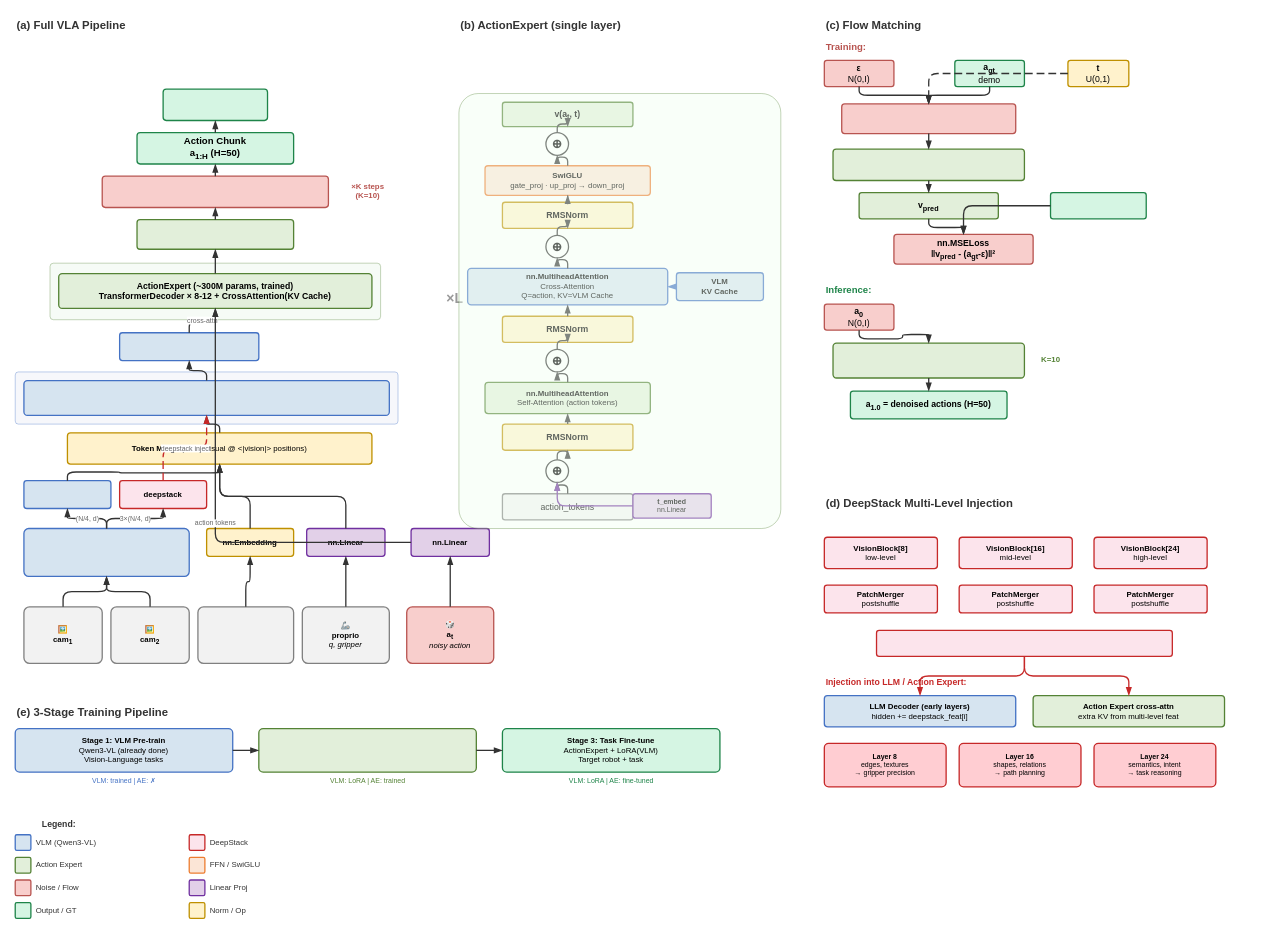
This 1275x934 diagram has some shape labels left out. The box of each missing label's shape, as (x1, y1, x2, y2) in pixels:
a gt - ε: (1049, 192, 1146, 219)
a t = (1-t)·ε + t·a gt: (841, 103, 1016, 134)
ActionExpert (a t , t, ctx): (832, 148, 1025, 181)
deepstack_features [3 × (N/4, d LLM )]: (875, 629, 1173, 657)
Euler Step a t+dt = a t + dt · v(a t , t): (101, 175, 329, 208)
for k=1..K: a t+dt = a t + dt · ActionExpert(a t , t, ctx): (832, 342, 1025, 378)
KV Cache: (119, 332, 259, 361)
Qwen3VLTextModel .forward() (frozen / LoRA) DecoderLayer × N → KV Cache: (23, 380, 390, 416)
Qwen3VLVisionModel .forward(pixel_values, grid_thw): (23, 527, 189, 577)
Stage 2: Robot Pre-train ActionExpert + LoRA(VLM) Cross-embodiment data: (258, 728, 477, 772)
velocity v(a t , t): (136, 219, 294, 250)
visual_tokens: (23, 480, 111, 509)
📝 lang instruction: (197, 606, 294, 664)
🤖 Robot: (162, 88, 268, 121)
